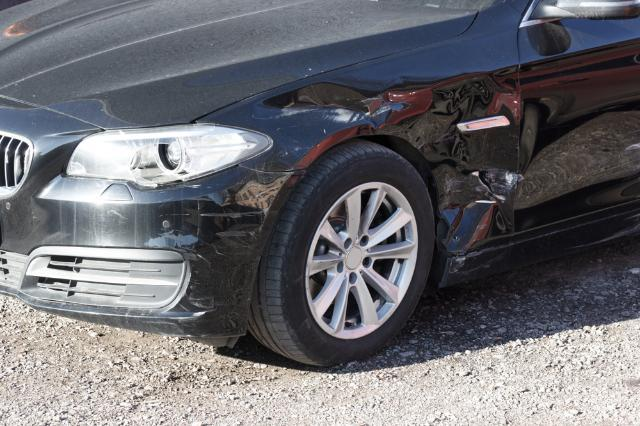crack: (477, 169, 494, 196)
dent: (268, 72, 514, 247)
lamp broken: (65, 124, 270, 186)
scratch: (150, 180, 265, 311)
